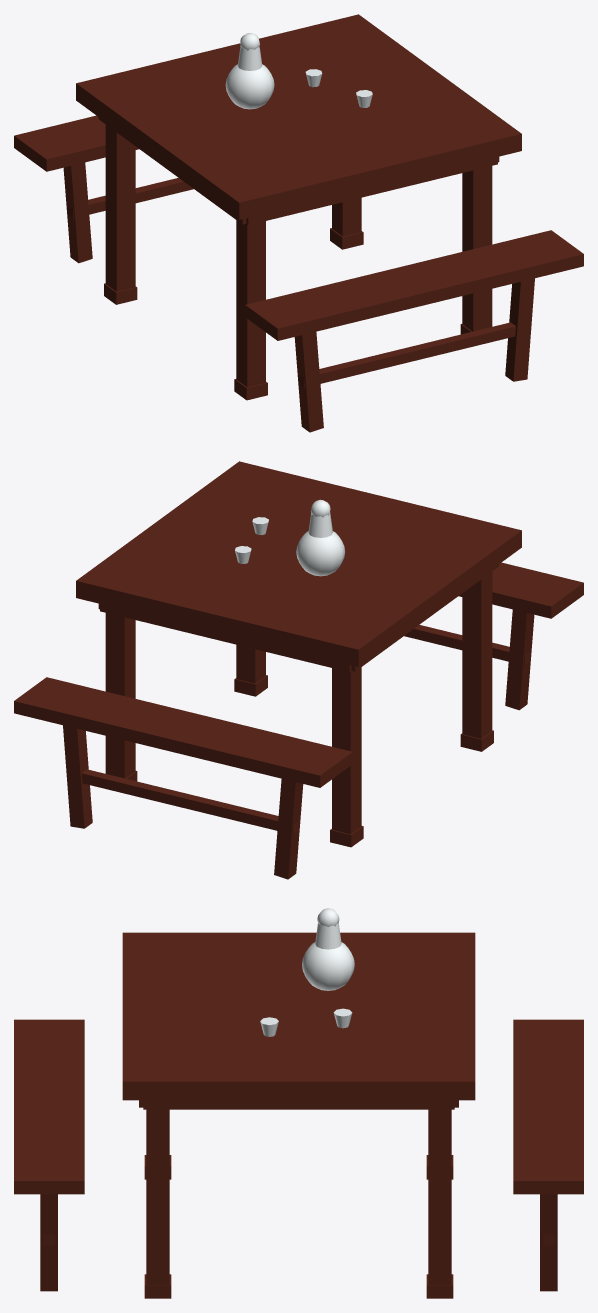
The model's file is pal1-tavern-table.glb.
The picture shows the model from 3 angles, top to bottom: view 1: azimuth 30°, elevation 25°; view 2: azimuth 150°, elevation 25°; view 3: azimuth 270°, elevation 25°; orthographic projection. The views are drawn at different scales.
Visible parts, largest first — view 1: Pal1TavernTable; view 2: Pal1TavernTable; view 3: Pal1TavernTable.
Part boxes in pixels (x1,y1,x2,y2): Pal1TavernTable: [14, 14, 583, 432]; Pal1TavernTable: [14, 461, 583, 879]; Pal1TavernTable: [14, 908, 583, 1298].
Size of the model in its own units: 1.3 by 1.15 by 1.94.
